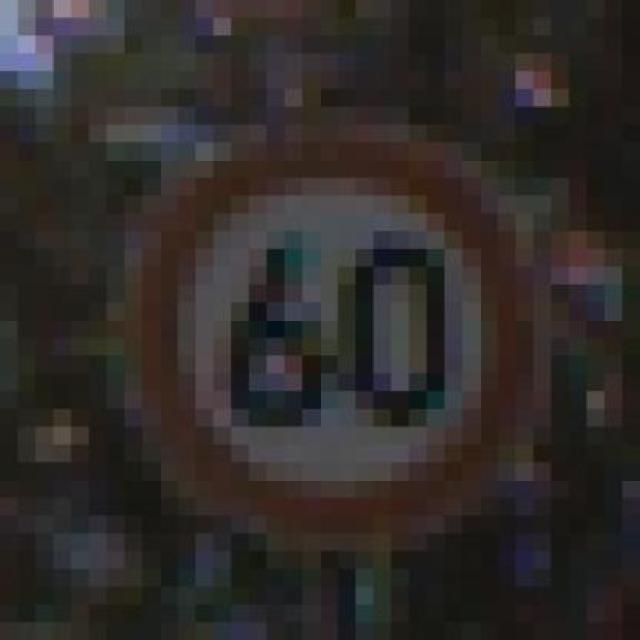forb_speed_over_60: (135, 134, 534, 532)
